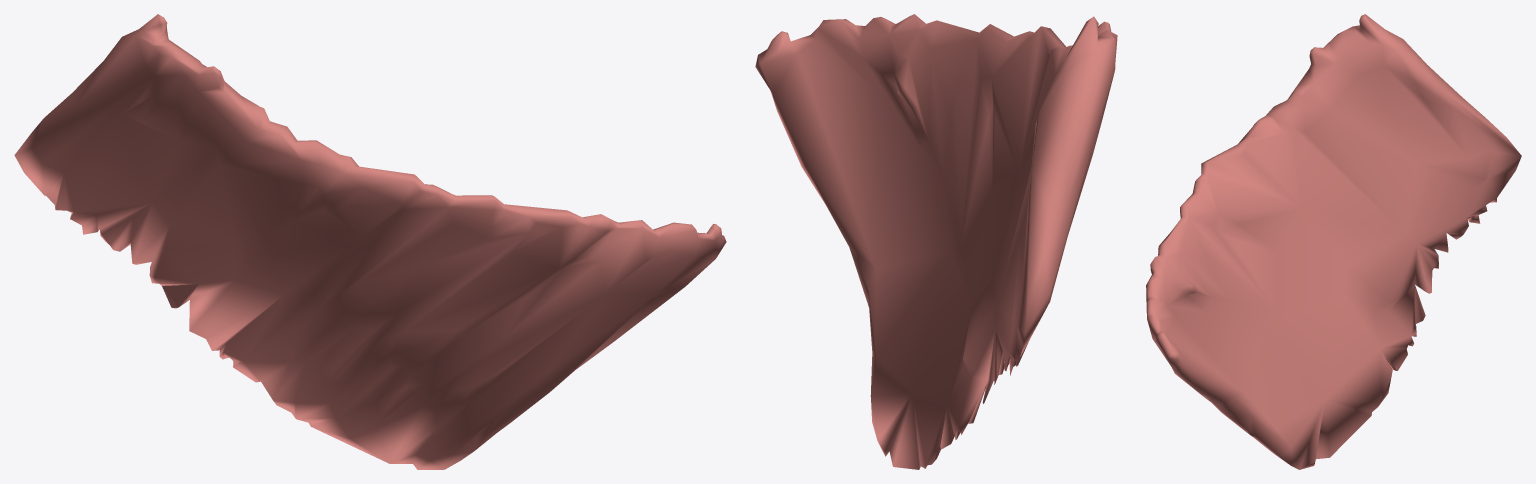
3 views of the same model, side by side, from view 1: azimuth 30°, elevation 25°; view 2: azimuth 150°, elevation 25°; view 3: azimuth 270°, elevation 25° (orthographic). The views are drawn at different scales.
Visible parts, largest first — view 1: ZA_3867538a8650bd6f; view 2: ZA_3867538a8650bd6f; view 3: ZA_3867538a8650bd6f.
Boxes of the visible parts, bbox=[...] form: ZA_3867538a8650bd6f: bbox=[14, 14, 726, 469]; ZA_3867538a8650bd6f: bbox=[755, 14, 1117, 469]; ZA_3867538a8650bd6f: bbox=[1146, 14, 1521, 469].
Bounding box in the file's own units: 0.0306 × 0.0295 × 0.0273.
